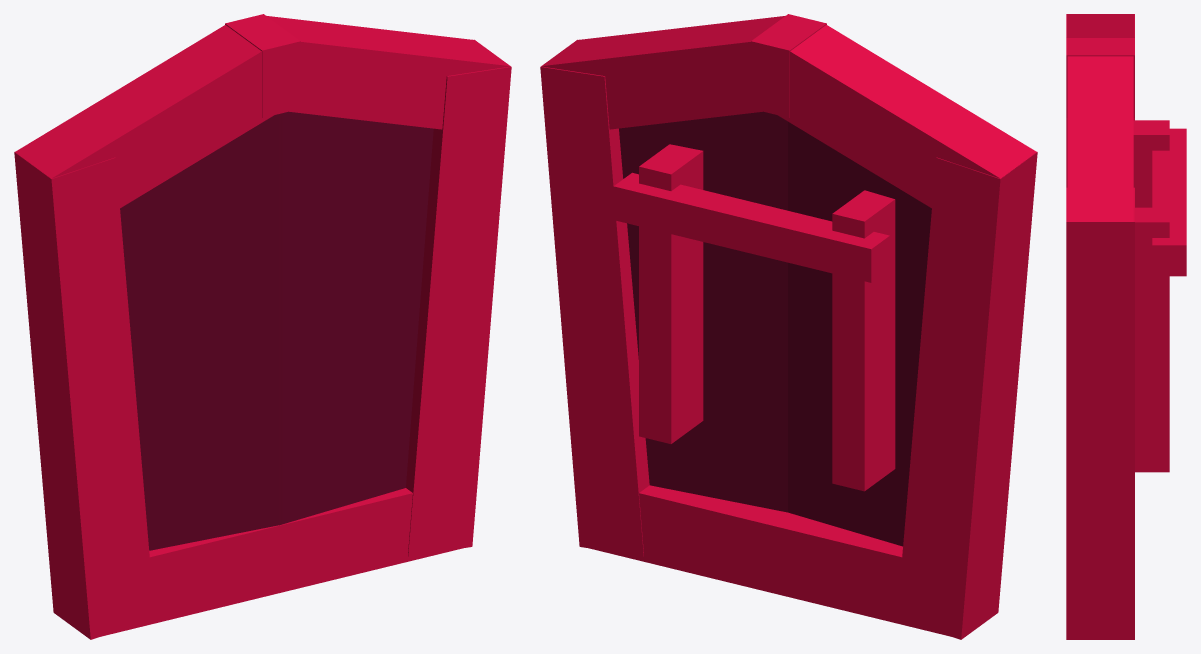
The model's file is MassProFullReflectionShield.fbx.
3 views of the same model, side by side, from view 1: azimuth 30°, elevation 25°; view 2: azimuth 150°, elevation 25°; view 3: azimuth 270°, elevation 25° (orthographic). The views are drawn at different scales.
Visible parts, largest first — view 1: Cube.004, Cube.005; view 2: Cube.004, Cube.005, Cube.017; view 3: Cube.004, Cube.017.
Boxes of the visible parts, <box> form: Cube.004: <box>14,14,511,639</box>; Cube.005: <box>120,111,433,550</box>; Cube.004: <box>540,14,1037,639</box>; Cube.005: <box>619,111,931,546</box>; Cube.017: <box>613,144,895,491</box>; Cube.004: <box>1066,14,1134,639</box>; Cube.017: <box>1133,120,1186,472</box>.
Bounding box in the file's own units: 143 × 162 × 35.
